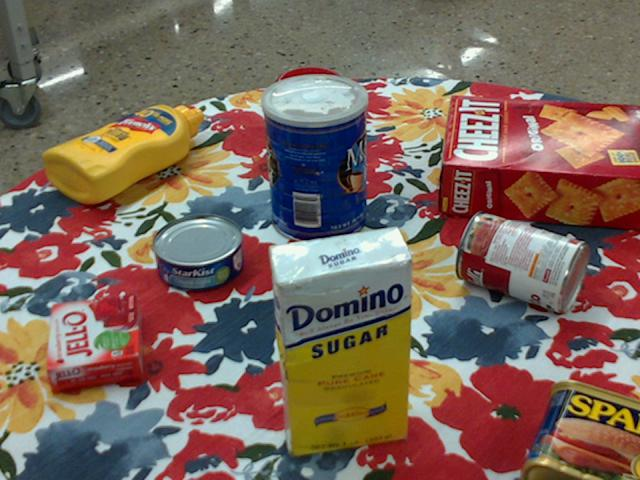cracker_box: (439, 95, 639, 230)
gelatin_box: (48, 296, 143, 396)
master_chef_can: (262, 73, 368, 244)
mug: (273, 67, 361, 161)
mustard_bottle: (41, 105, 202, 203)
potted_meat_can: (522, 377, 639, 479)
sugar_box: (266, 225, 411, 459)
tomato_soup_can: (458, 211, 591, 311)
tuna_fish_can: (150, 215, 242, 292)
